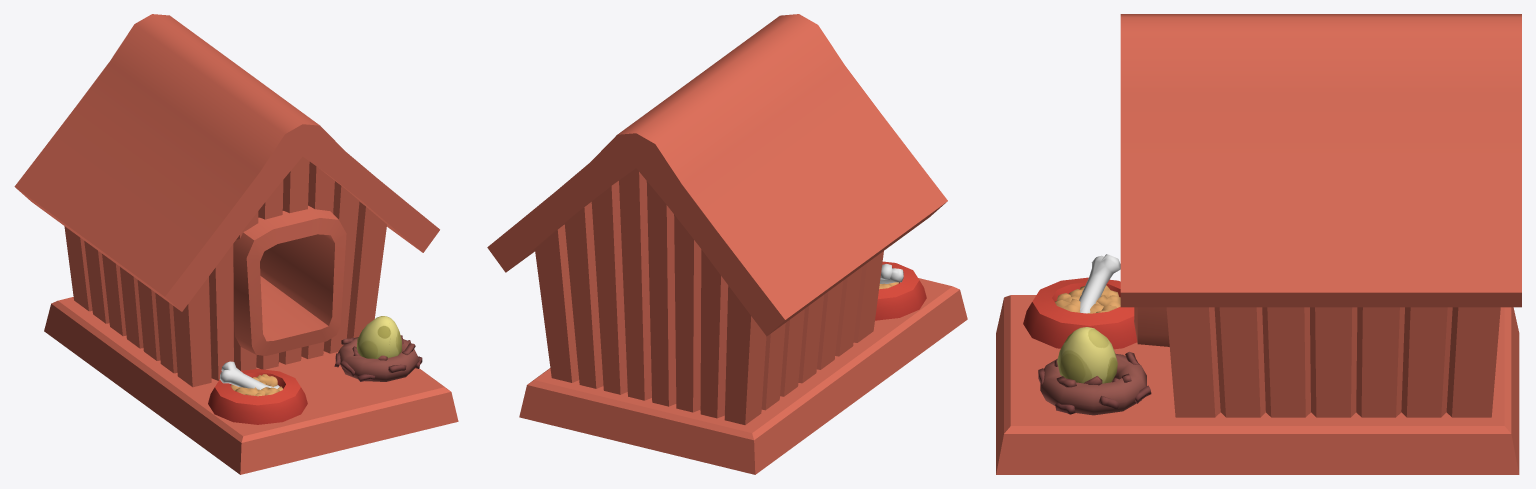
Rendered from Animal House.fbx.
The picture shows the model from 3 angles, left to right: view 1: azimuth 30°, elevation 25°; view 2: azimuth 150°, elevation 25°; view 3: azimuth 270°, elevation 25°; orthographic projection. The views are drawn at different scales.
Visible parts, largest first — view 1: HOme, Dragon egg, object for Food, Bone For Dog, food FOr cat; view 2: HOme, object for Food; view 3: HOme, Dragon egg, object for Food, Bone For Dog, food FOr cat.
Part boxes in pixels (left/top/right/bottom): HOme: left=14, top=14, right=458, bottom=474; Dragon egg: left=334, top=316, right=422, bottom=381; object for Food: left=208, top=369, right=307, bottom=424; Bone For Dog: left=219, top=361, right=279, bottom=389; food FOr cat: left=231, top=374, right=282, bottom=396; HOme: left=487, top=14, right=967, bottom=474; object for Food: left=875, top=261, right=926, bottom=320; HOme: left=996, top=14, right=1521, bottom=474; Dragon egg: left=1038, top=327, right=1151, bottom=415; object for Food: left=1023, top=277, right=1137, bottom=349; Bone For Dog: left=1079, top=254, right=1120, bottom=313; food FOr cat: left=1055, top=285, right=1120, bottom=313.
Bounding box in the file's own units: 0.5347 × 0.5377 × 0.6633.
